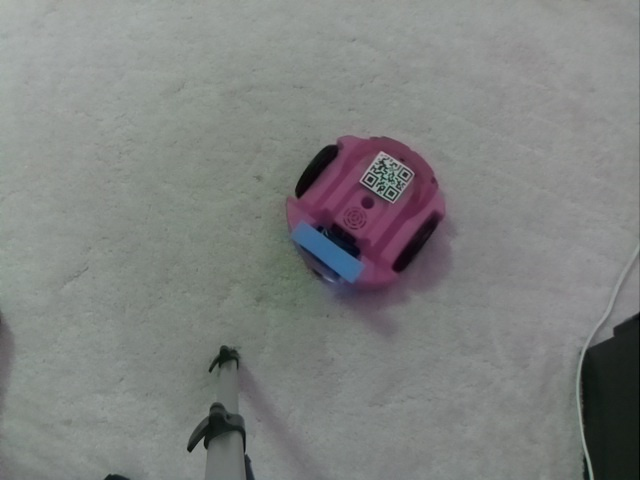chassis: (280, 125, 447, 286)
qr: (358, 148, 418, 207)
